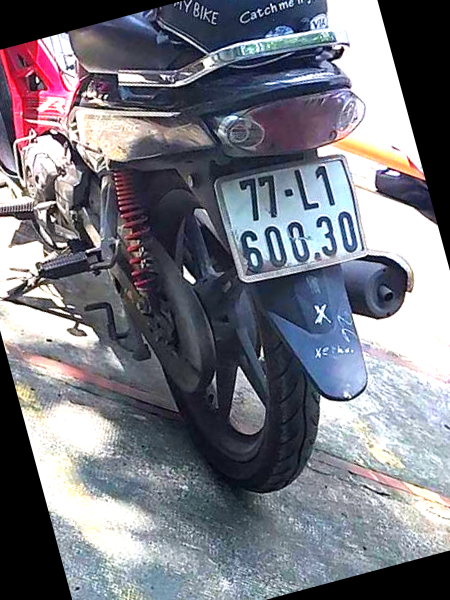number: (216, 155, 364, 276)
